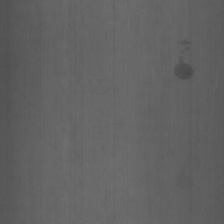oil_spot: (171, 39, 195, 85)
